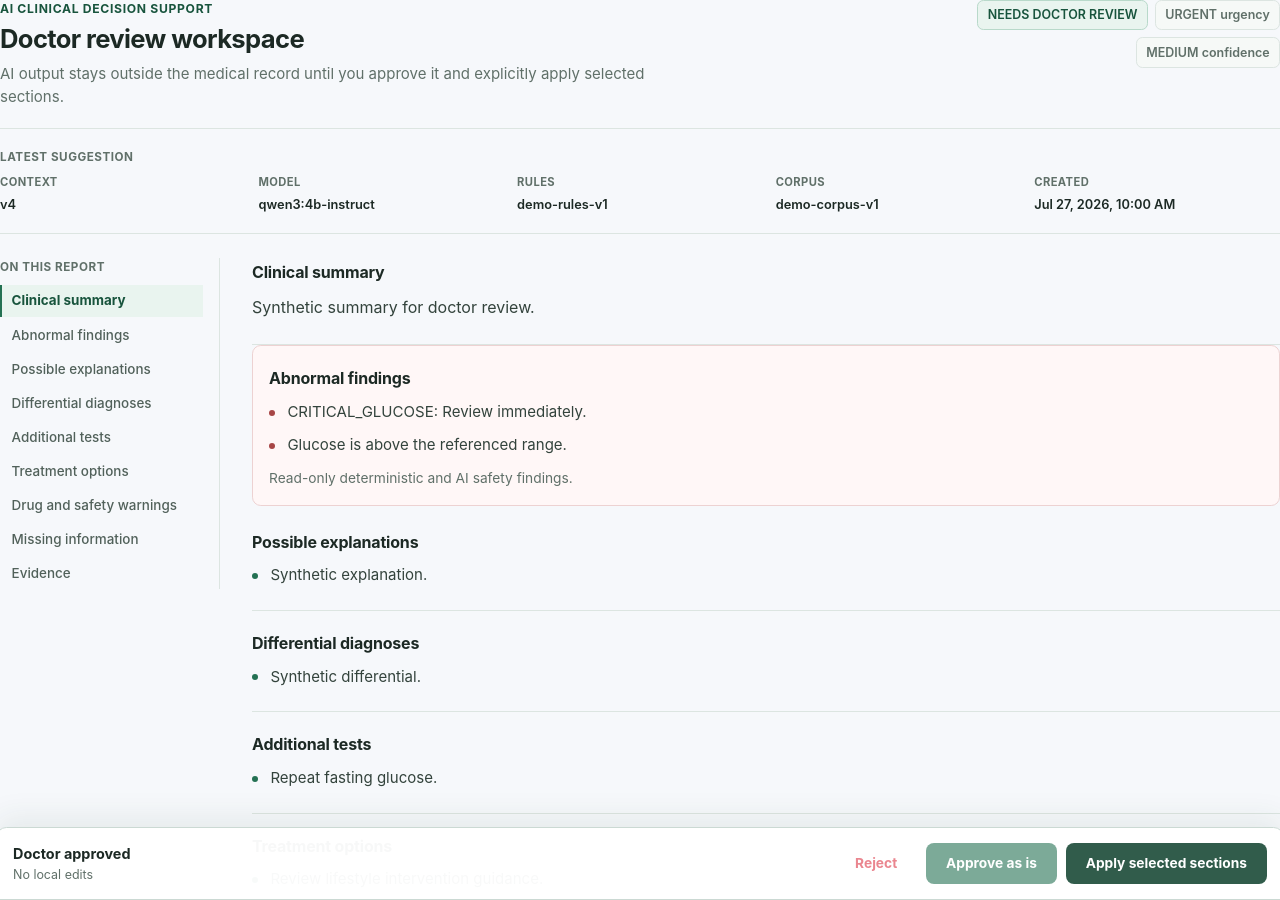
Test: CdsSuggestionReviewPanel › applies selected sections to a new draft by default
The image size is (1280, 900).
What coordinates should you click on to do the following:
click the button "Apply selected sections"
I would click on:
 (1166, 864)
Its box is [1066, 844, 1267, 884].
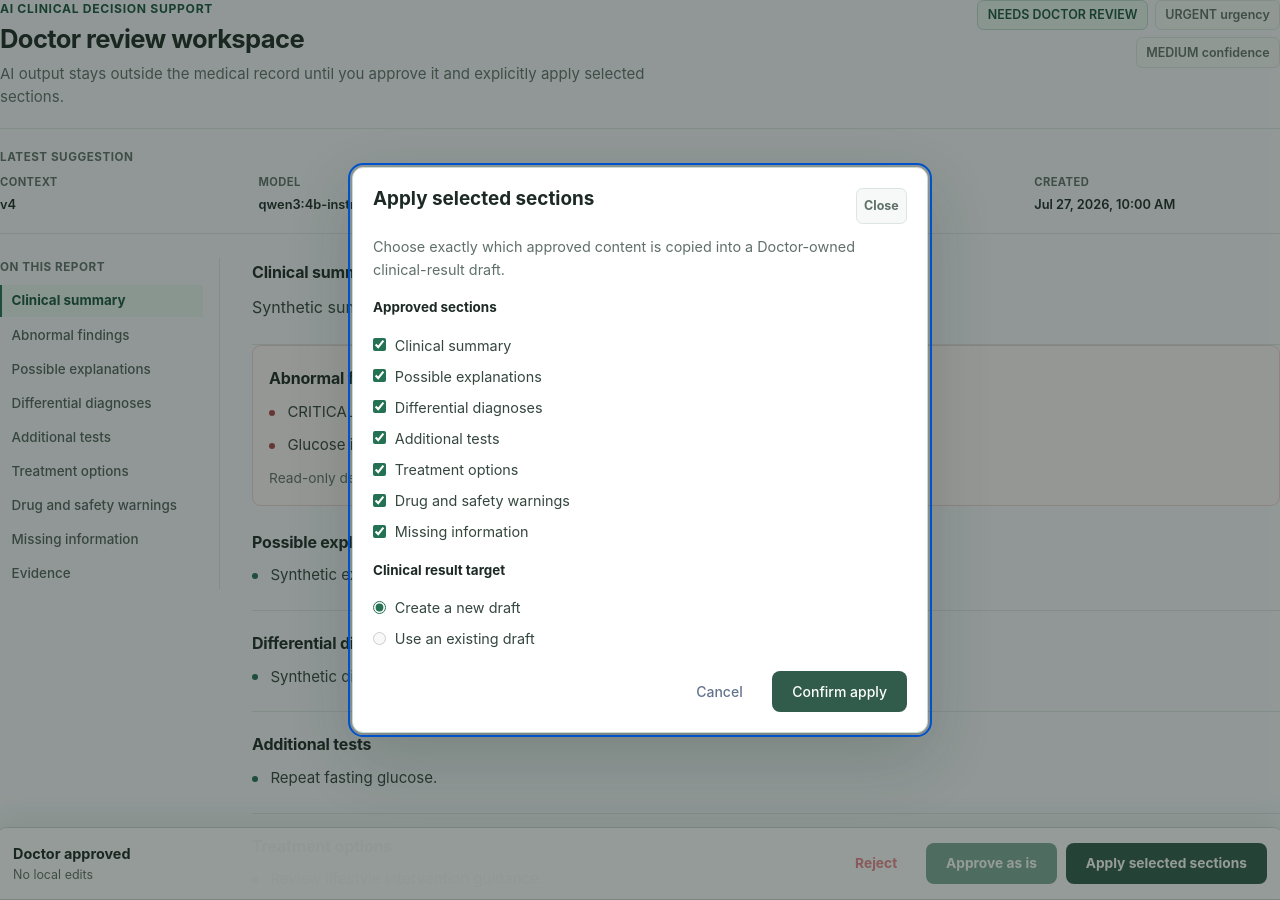
Now the radio button labelled "Create a new draft" is checked, box [373, 601, 386, 614]
What coordinates should you click on to do the following:
click the button "Confirm apply"
I would click on:
 (840, 691)
Its box is [772, 671, 907, 712].
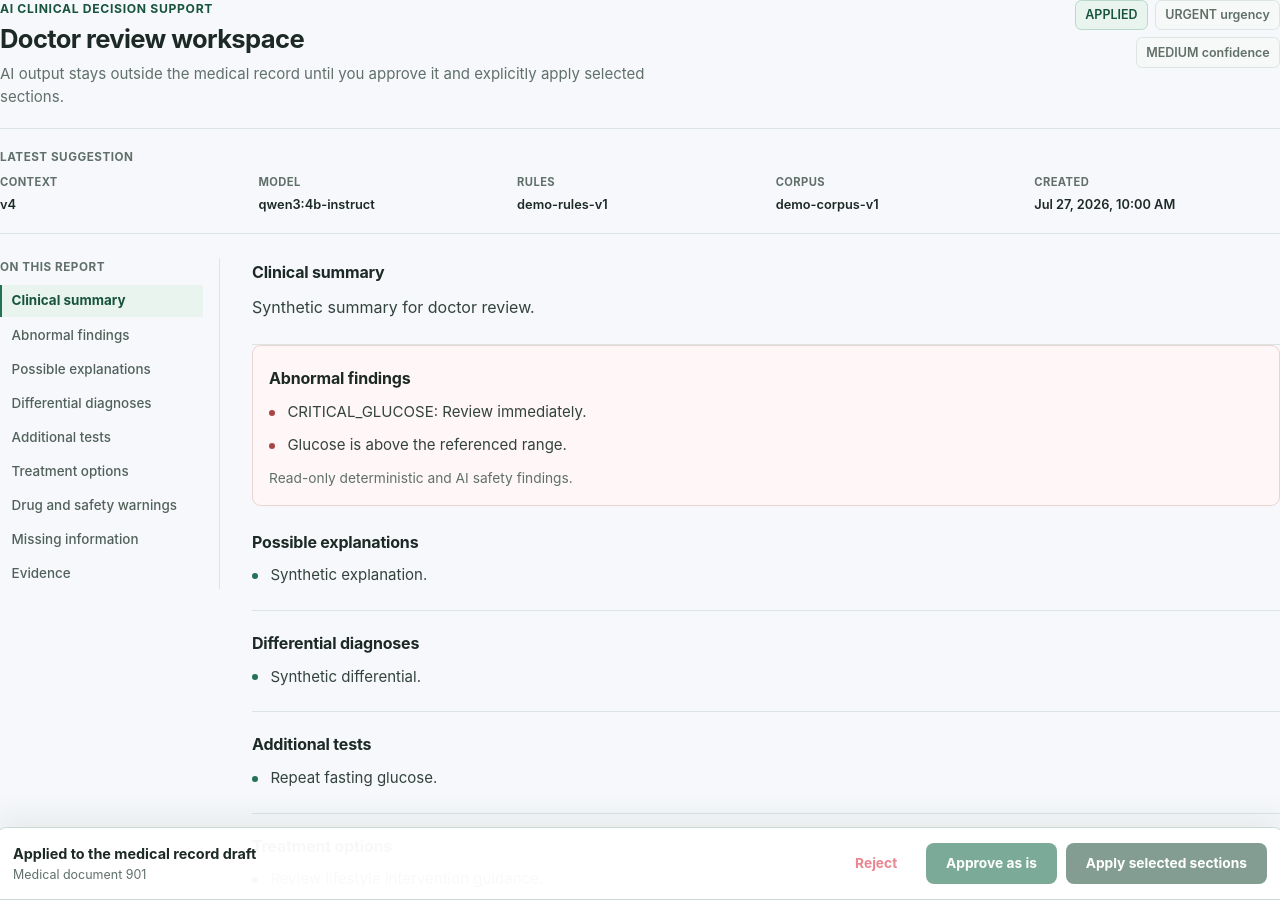
Now the text "Medical document 901" is shown, box [13, 867, 146, 882]
